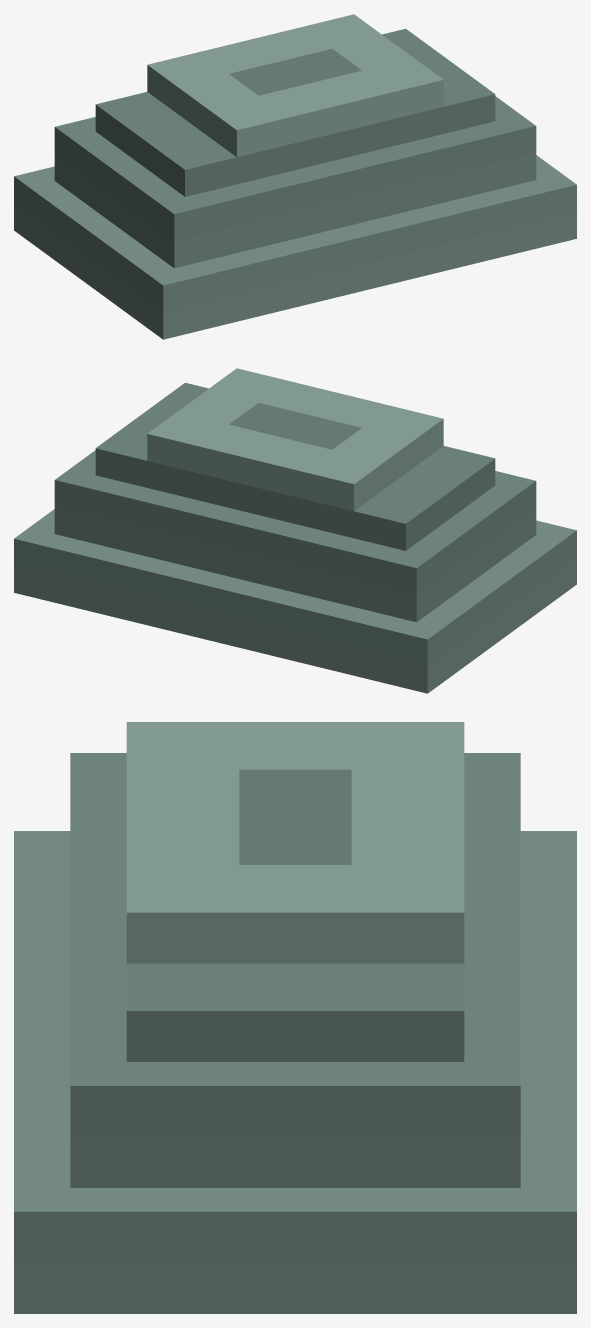
Rendered from mat_adamantite.glb.
3 views of the same model, one above another, from view 1: azimuth 30°, elevation 25°; view 2: azimuth 150°, elevation 25°; view 3: azimuth 270°, elevation 25° (orthographic). The views are drawn at different scales.
Visible parts, largest first — view 1: mat_adamantite; view 2: mat_adamantite; view 3: mat_adamantite.
Boxes of the visible parts, <box> form: mat_adamantite: <box>14,14,576,339</box>; mat_adamantite: <box>14,368,576,693</box>; mat_adamantite: <box>14,722,576,1313</box>.
Bounding box in the file's own units: 0.192 × 0.072 × 0.12.
